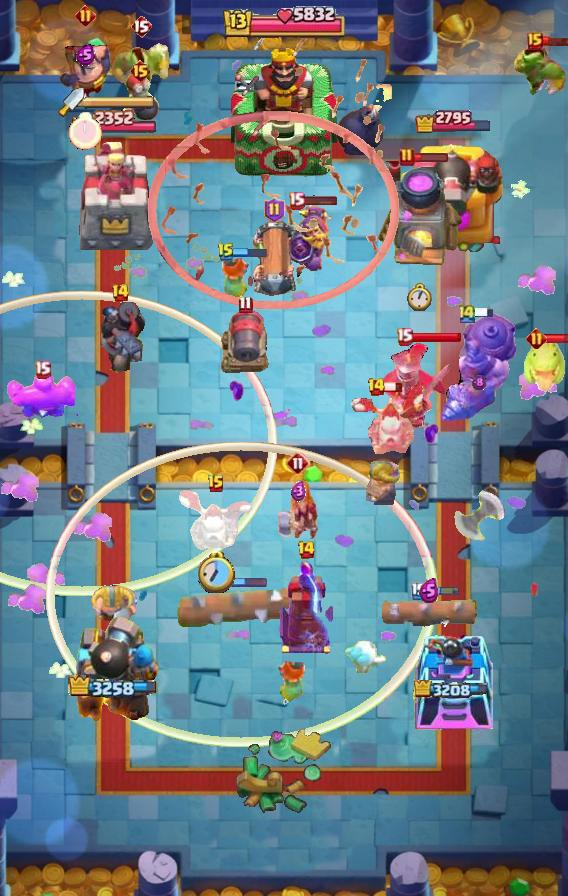baby-dragon: (335, 84, 395, 156)
bar: (73, 140, 155, 256)
bat: (342, 639, 388, 673)
battle-healer: (250, 221, 298, 301)
clock: (221, 3, 347, 43)
electro-spirit: (419, 577, 439, 602), (76, 44, 95, 66), (291, 481, 305, 503), (472, 373, 486, 390)
electro-wizard: (522, 342, 568, 394)
elixir: (198, 552, 235, 593), (69, 112, 102, 150), (408, 283, 433, 312)
emote: (410, 331, 462, 343), (302, 194, 338, 206), (424, 585, 460, 597), (233, 246, 268, 258), (413, 152, 449, 163), (232, 577, 268, 588), (540, 35, 568, 47), (544, 332, 568, 343), (383, 381, 403, 393), (475, 307, 494, 319)
firecracker-evolution: (287, 205, 331, 273)
flying-machine: (512, 41, 568, 99), (111, 43, 171, 93)
goblin-giant: (90, 582, 138, 625), (366, 458, 402, 505)
hog-rider: (274, 480, 322, 542), (217, 253, 255, 305), (272, 656, 310, 708)
hunter: (374, 161, 464, 269)
ice-golem: (120, 72, 160, 120)
ice-spirit-evolution-symbol: (276, 559, 336, 655)
inferno-dragon: (89, 302, 151, 378)
king-tower: (231, 43, 337, 181)
king-tower-bar: (84, 95, 156, 109)
mini-pekka: (351, 384, 425, 456), (177, 489, 255, 553)
minion: (175, 587, 299, 627), (379, 592, 479, 630)
monk: (57, 31, 113, 103)
queen-tower: (412, 623, 494, 731)
royal-giant: (453, 490, 511, 552)
royal-giant-evolution: (216, 308, 274, 378)
selected: (68, 674, 160, 701), (70, 111, 157, 138), (414, 108, 494, 133), (414, 679, 494, 700)
skeleton-barrel: (147, 29, 400, 309)
text: (286, 451, 310, 475), (129, 59, 152, 83), (263, 197, 284, 223), (130, 14, 152, 38), (525, 327, 547, 349), (75, 5, 96, 27), (457, 303, 477, 324), (111, 283, 130, 303), (367, 377, 386, 397), (296, 540, 315, 560), (217, 242, 235, 262), (207, 474, 225, 494), (288, 190, 305, 209), (34, 360, 51, 379), (399, 147, 415, 167), (396, 327, 413, 345), (527, 32, 543, 50), (411, 582, 427, 600), (239, 295, 254, 314)
tornado: (6, 371, 78, 421)
tower-bar: (399, 138, 507, 256), (64, 615, 164, 731)
wall-breaker-evolution: (379, 341, 455, 429)
wizard: (438, 310, 520, 424)
